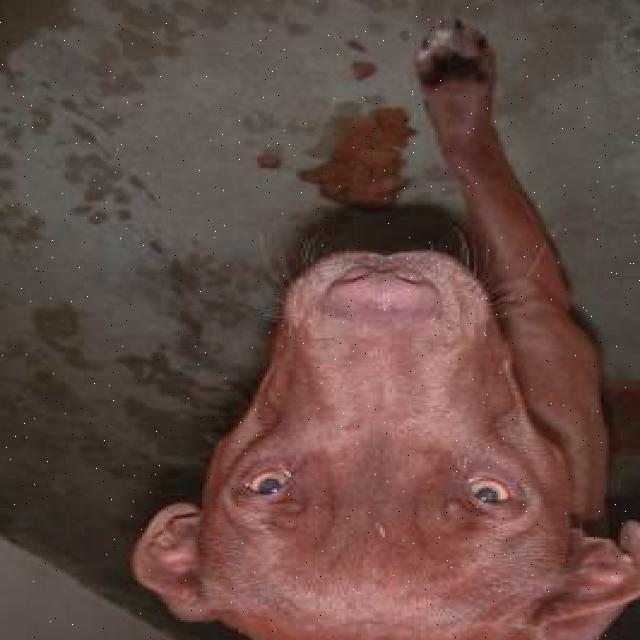Dog: (103, 231, 640, 640)
